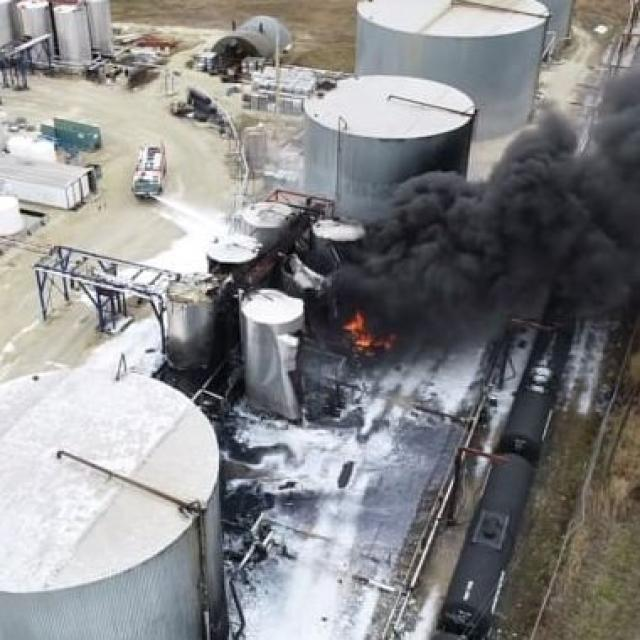Fire: (324, 307, 396, 354)
Smoke: (321, 119, 640, 358)
